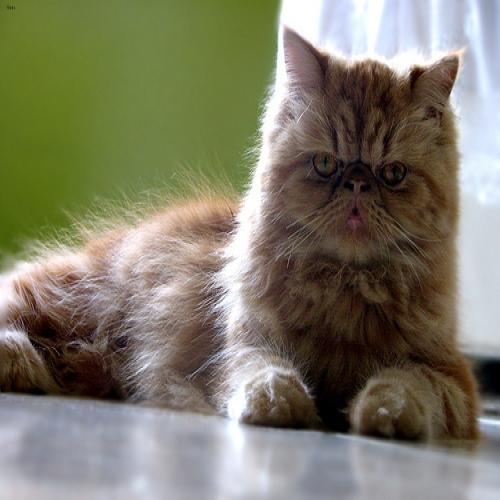persian: (261, 26, 470, 286)
